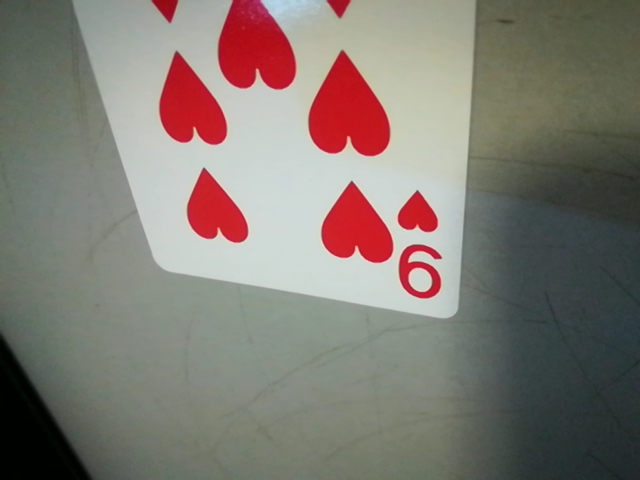hx 9: (387, 188, 459, 307)
